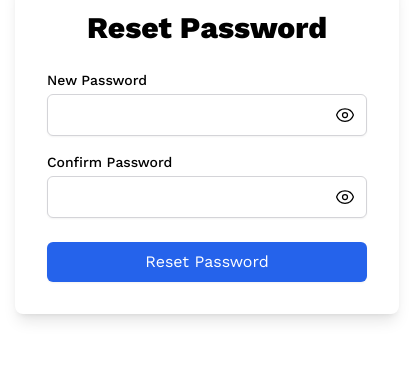
Test: ResetPasswordForm › shows API error message on failure
Type "newpassword123" into the password field labelled "New Password".
click(207, 115); type("newpassword123")  # box [47,94,367,136]
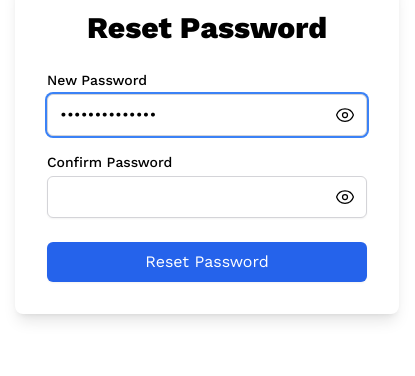
Type "newpassword123" into the password field labelled "Confirm Password".
click(207, 197); type("newpassword123")  # box [47,176,367,218]
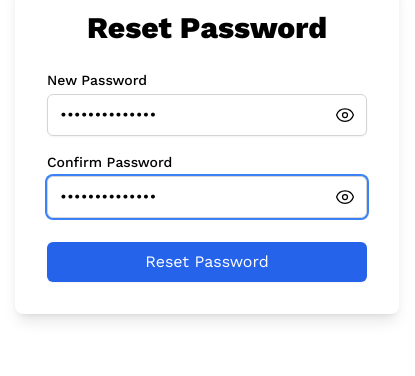
Click the button "Reset Password".
click(207, 262)  # box [47,242,367,282]
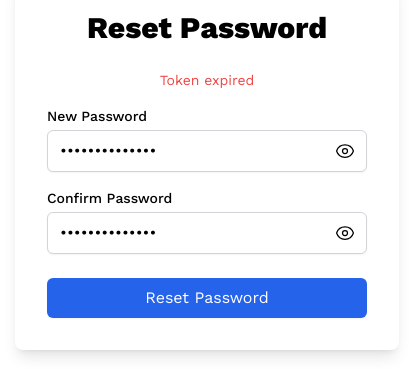
Expected: the text "Token expired" is shown, [160,72,254,88]
